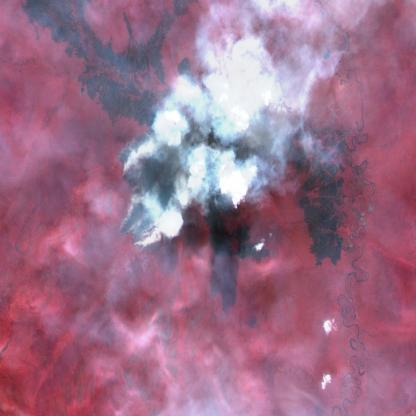fire: (110, 130, 183, 258)
